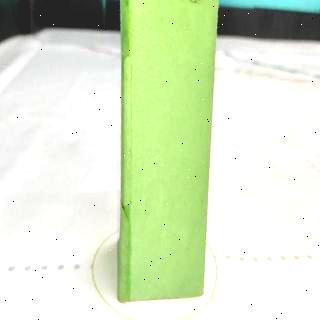greenbox: (120, 0, 217, 298)
